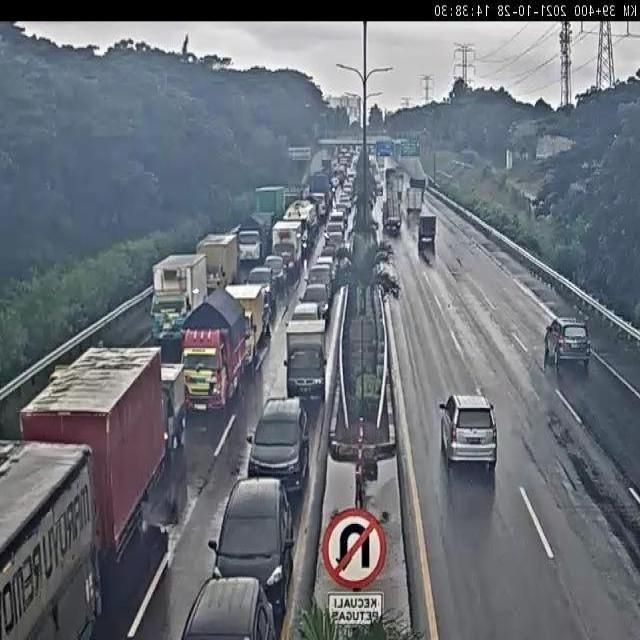Car: (206, 475, 297, 608), (246, 396, 312, 497), (180, 573, 275, 640), (440, 392, 500, 472), (543, 316, 590, 366), (246, 266, 278, 312), (300, 282, 330, 322), (264, 254, 286, 297), (310, 257, 334, 289), (323, 221, 345, 243), (328, 210, 346, 228), (376, 182, 384, 196)
Truck: (20, 347, 170, 575), (0, 440, 100, 638), (179, 288, 254, 415), (152, 252, 207, 329), (220, 281, 267, 371), (284, 316, 328, 404), (160, 361, 188, 459), (196, 233, 240, 295), (271, 219, 305, 281), (234, 212, 269, 269), (282, 199, 317, 248), (252, 185, 286, 228), (381, 190, 404, 238), (307, 172, 330, 215), (282, 188, 302, 221), (406, 186, 424, 222), (418, 213, 436, 245), (409, 175, 427, 202), (390, 172, 404, 196)
